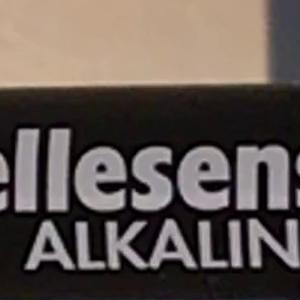keyword: (16, 212, 115, 279)
